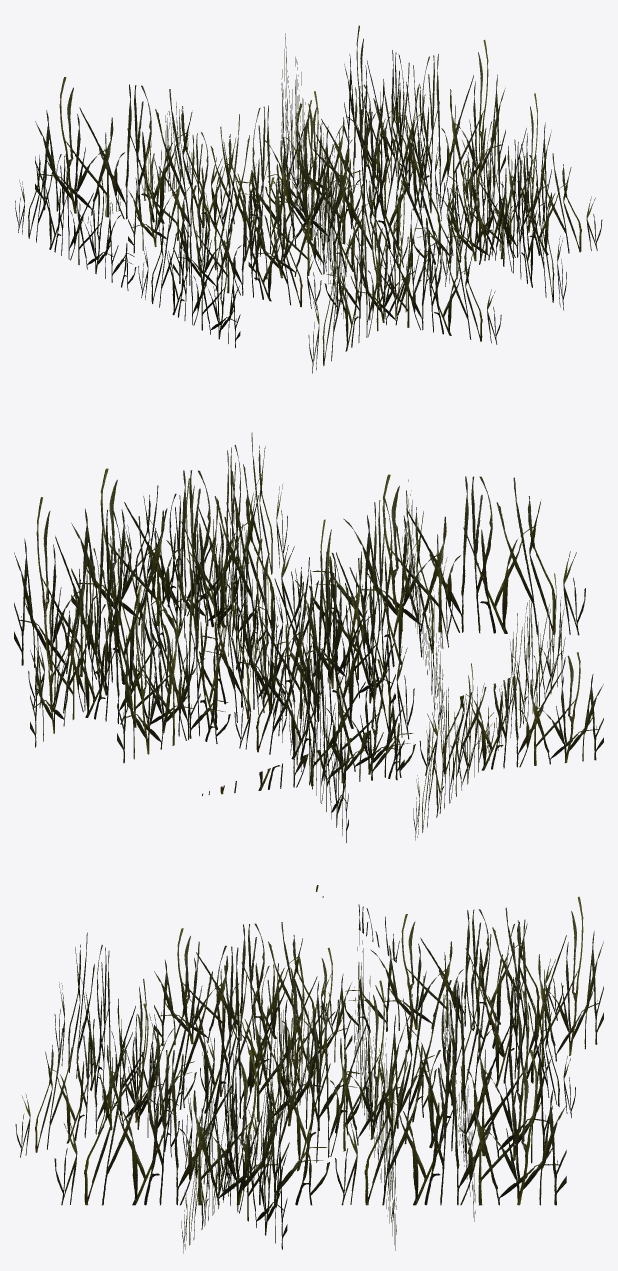
Rendered from NW_NATURE_GRASSGROUP_01.glb.
The picture shows the model from 3 angles, top to bottom: view 1: azimuth 30°, elevation 25°; view 2: azimuth 150°, elevation 25°; view 3: azimuth 270°, elevation 25°; orthographic projection. The views are drawn at different scales.
Visible parts, largest first — view 1: Mesh; view 2: Mesh; view 3: Mesh.
Boxes of the visible parts, x1,y1,x2,y2 form: Mesh: (15,25,602,373); Mesh: (14,432,603,842); Mesh: (15,885,603,1253).
Bounding box in the file's own units: 7.29 × 2.2 × 6.88.
1 material, 1 textured.
